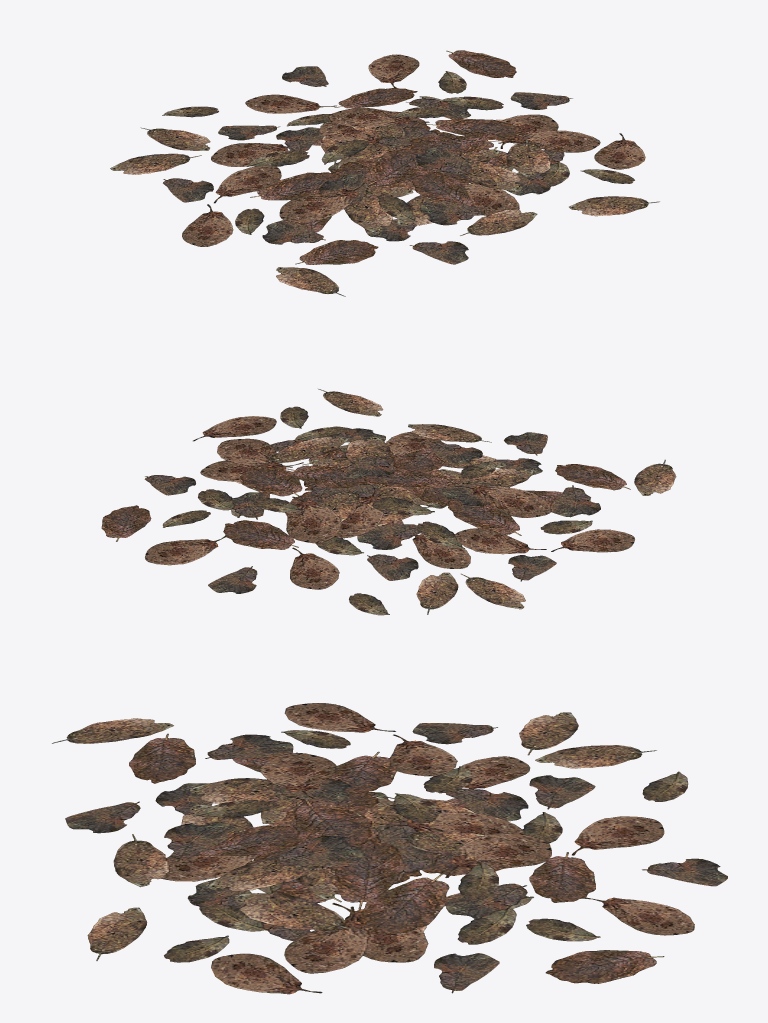
Rendered from leaves.DAE.
3 renders of one model, top to bottom at view 1: azimuth 30°, elevation 25°; view 2: azimuth 150°, elevation 25°; view 3: azimuth 270°, elevation 25°, orthographic. The views are drawn at different scales.
Parts seen in each view (by area): view 1: Box002; view 2: Box002; view 3: Box002.
Part boxes in pixels (x1,y1,x2,y2): Box002: [110, 50, 659, 296]; Box002: [101, 389, 676, 615]; Box002: [52, 703, 727, 994].
Size of the model in its own units: 2 by 0.0936 by 2.
